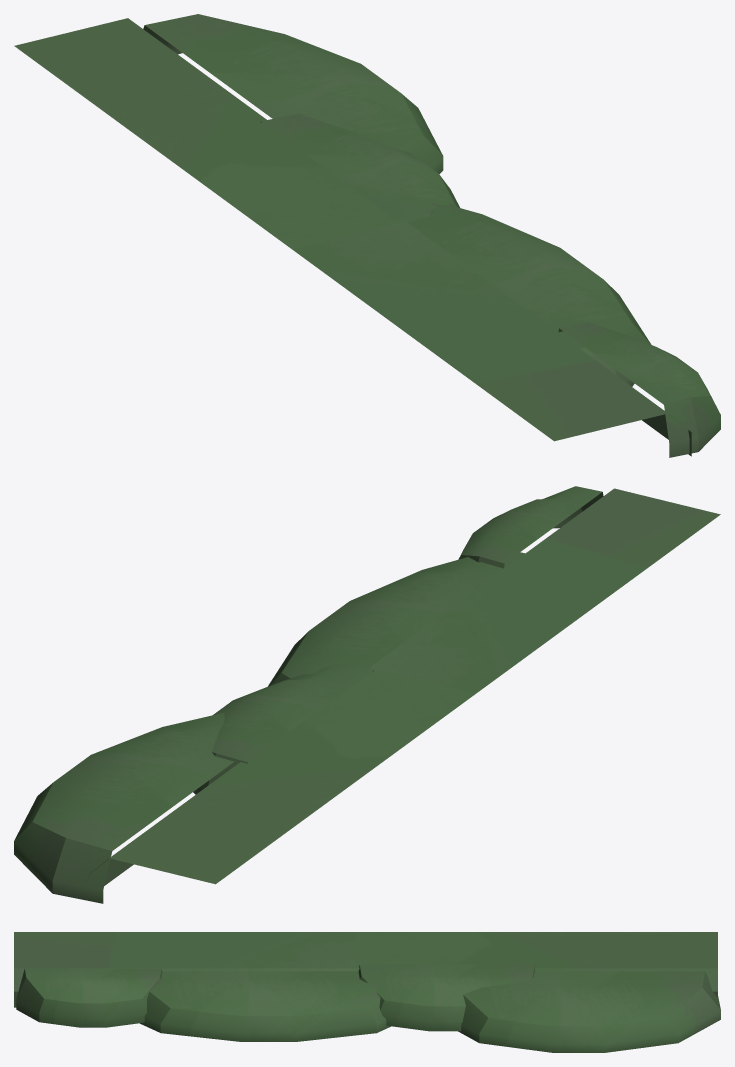
Rendered from GrassFlatSideV2.fbx.
The picture shows the model from 3 angles, top to bottom: view 1: azimuth 30°, elevation 25°; view 2: azimuth 150°, elevation 25°; view 3: azimuth 270°, elevation 25°; orthographic projection. The views are drawn at different scales.
Parts seen in each view (by area): view 1: Variation2; view 2: Variation2; view 3: Variation2.
Boxes of the visible parts, x1,y1,x2,y2 form: Variation2: (14, 14, 720, 457); Variation2: (14, 486, 720, 903); Variation2: (14, 932, 720, 1052).
Size of the model in its own units: 59.16 by 11.03 by 201.
